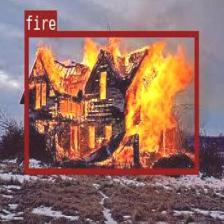fire: (24, 31, 198, 172)
